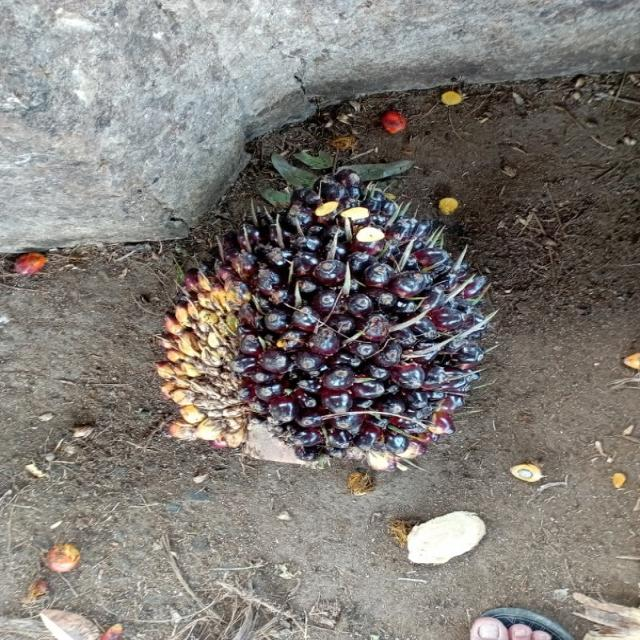fraksi 00: (104, 100, 518, 524)
